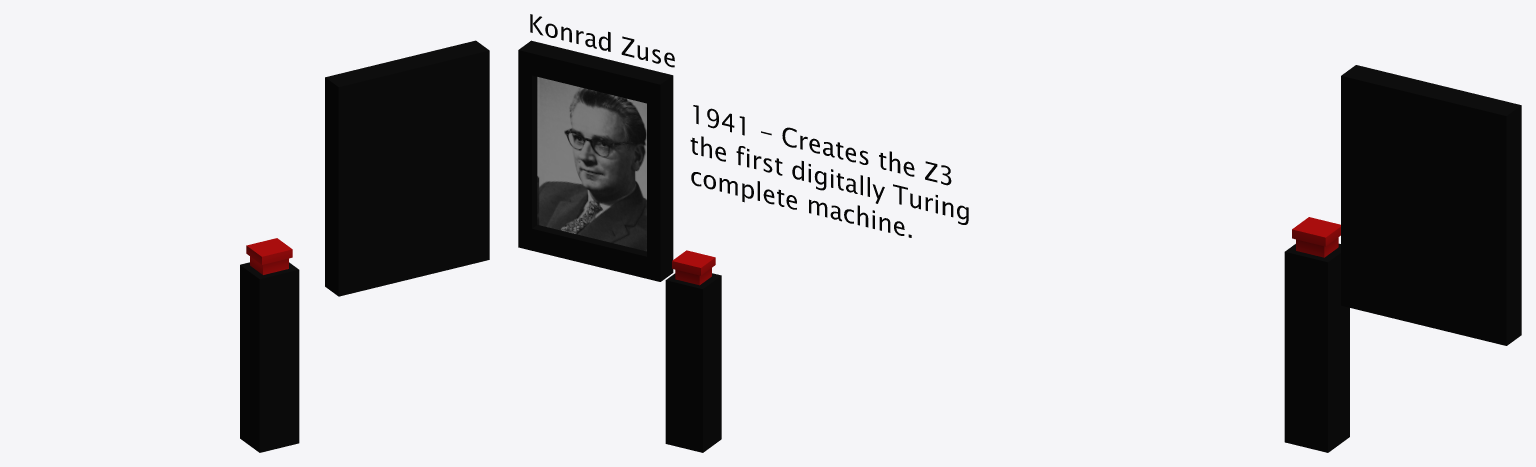
3 views of the same model, side by side, from view 1: azimuth 30°, elevation 25°; view 2: azimuth 150°, elevation 25°; view 3: azimuth 330°, elevation 25° (orthographic). The views are drawn at different scales.
Parts seen in each view (by area): view 1: typeMesh19, polySurface4273; view 2: typeMesh19, polySurface4273; view 3: typeMesh19, polySurface4273.
Part boxes in pixels (x1,y1,x2,y2): typeMesh19: (325,40,489,296); polySurface4273: (240,238,299,452); typeMesh19: (518,14,968,281); polySurface4273: (665,250,721,452); typeMesh19: (1341,65,1521,345); polySurface4273: (1284,217,1349,452).
Size of what is drawn, in the model's own units: 4.9 by 3.94 by 0.6109.
Materials: 4 (1 with a texture image).
